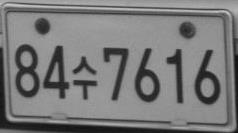1: (164, 48, 192, 103)
4: (42, 44, 70, 99)
6: (133, 47, 161, 103), (194, 49, 221, 105)
7: (102, 46, 129, 100)
8: (14, 43, 40, 98)
수: (72, 55, 98, 100)
